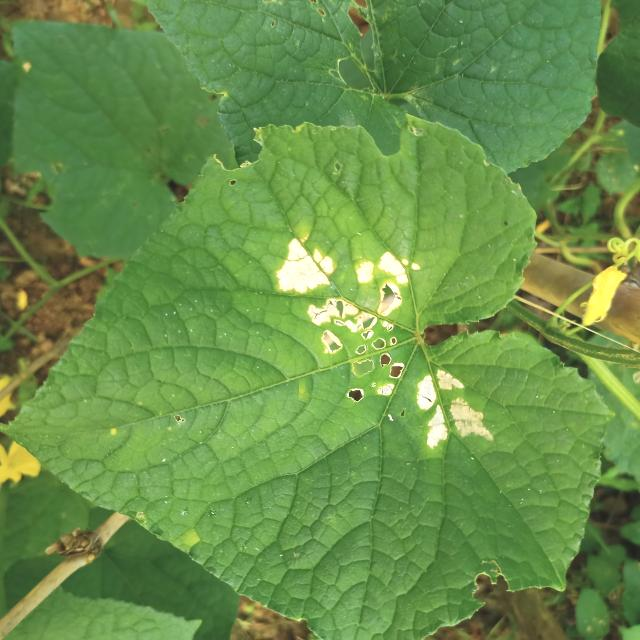disease_cucumber: (274, 222, 422, 410), (413, 364, 492, 454)
